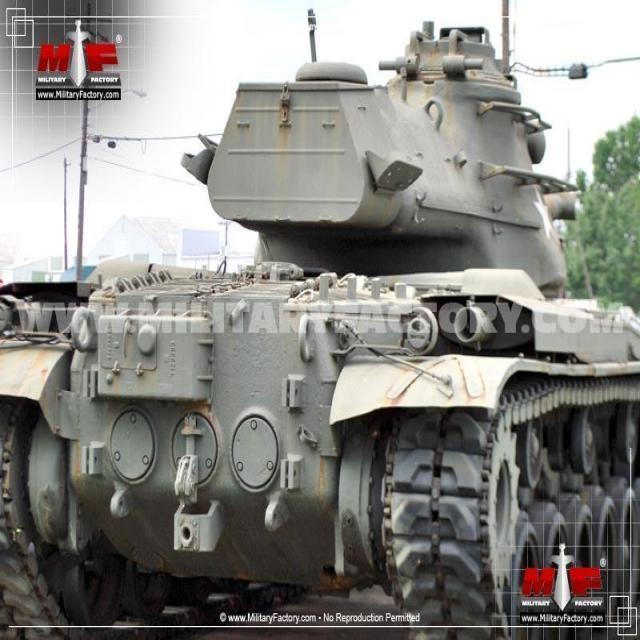MIL_MBT: (78, 21, 551, 609)
